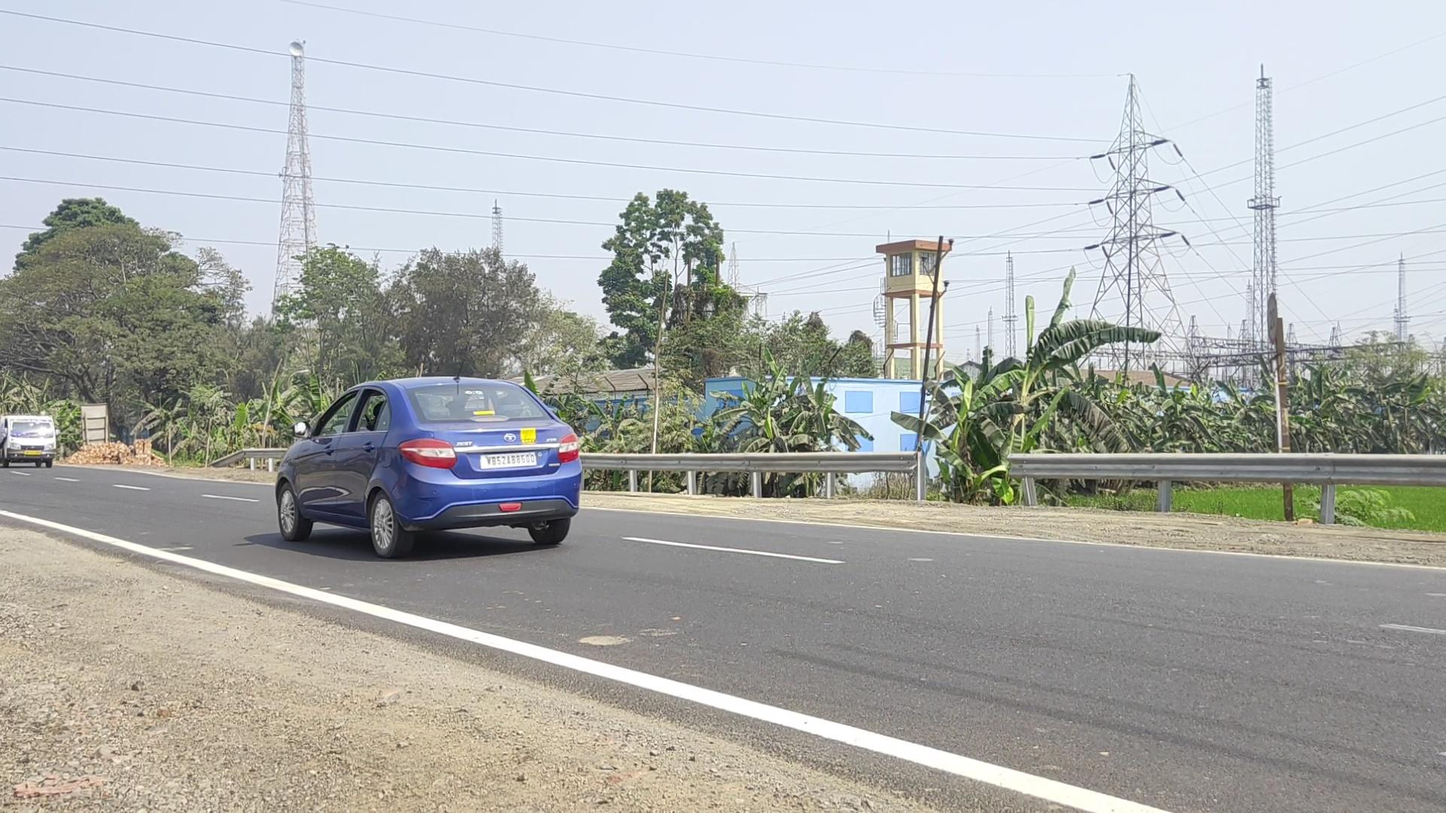car: (275, 376, 582, 559)
van: (1, 413, 59, 470)
